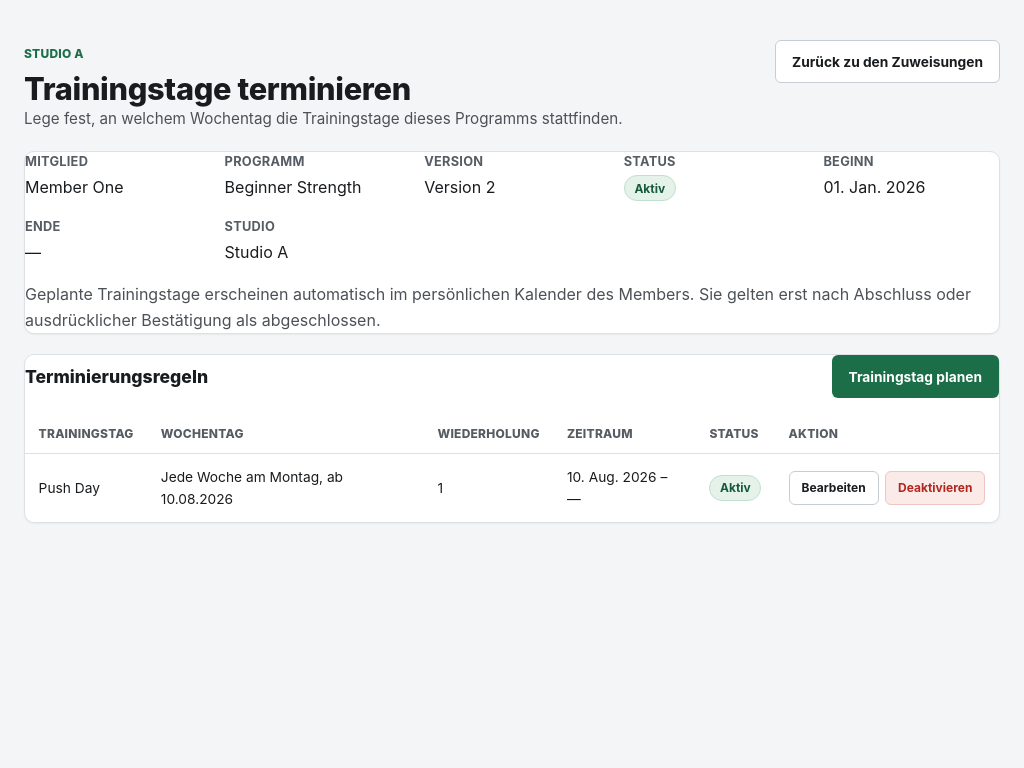
Test: ScheduleRulesView › opens the edit form pre-filled and never offers changing the program day
Click the button "Bearbeiten" at (834, 488), box [789,471,879,505]
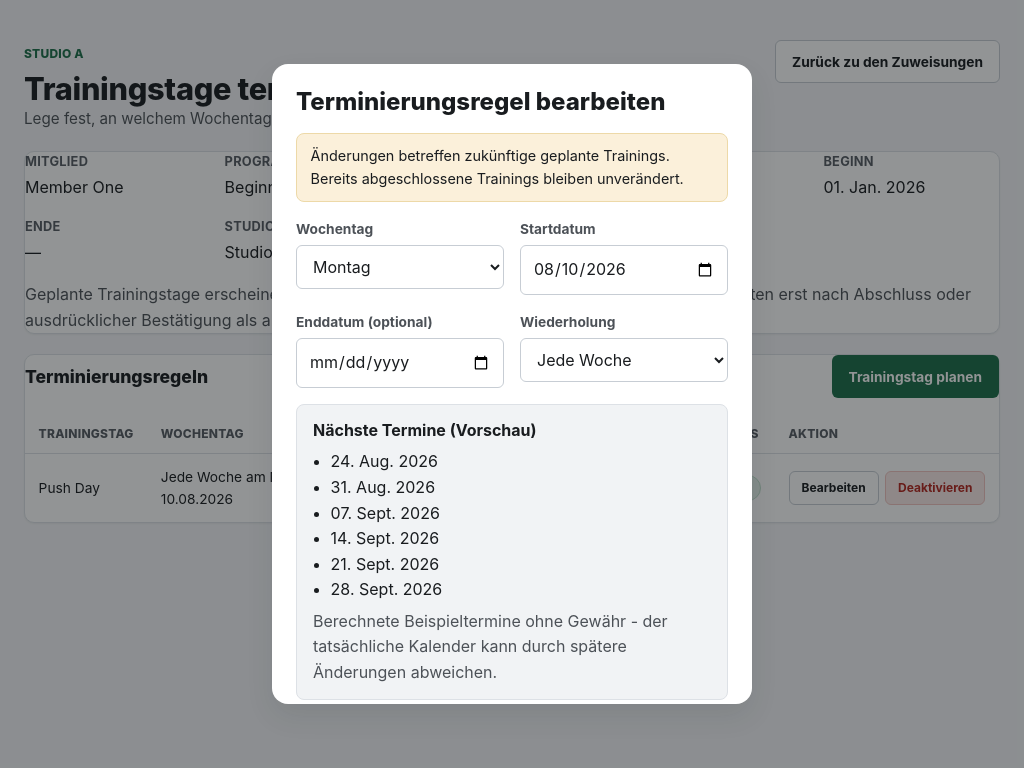
expect the dropdown with id "rule-weekday" shows "Montag": met, box [296,245,504,289]
expect the date field with id "rule-start" holds "2026-08-10": met, box [520,245,728,295]
